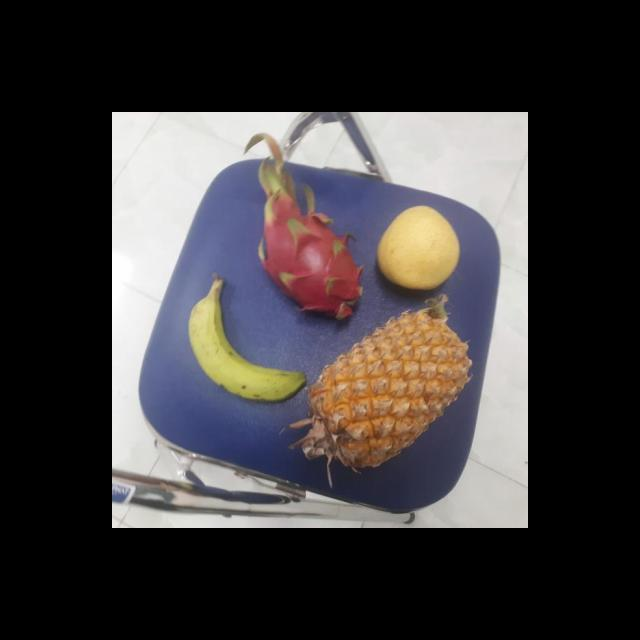banana: (182, 282, 302, 404)
pear: (372, 204, 459, 290)
pineapple: (300, 307, 463, 468)
pitaya: (256, 193, 364, 323)
